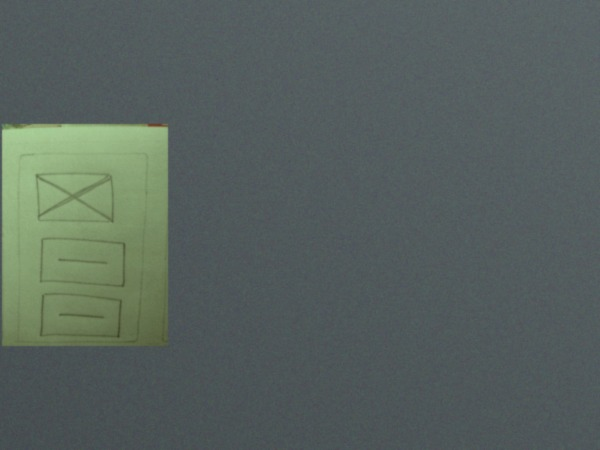button: (35, 233, 130, 290), (37, 292, 125, 341)
image: (32, 167, 117, 227)
